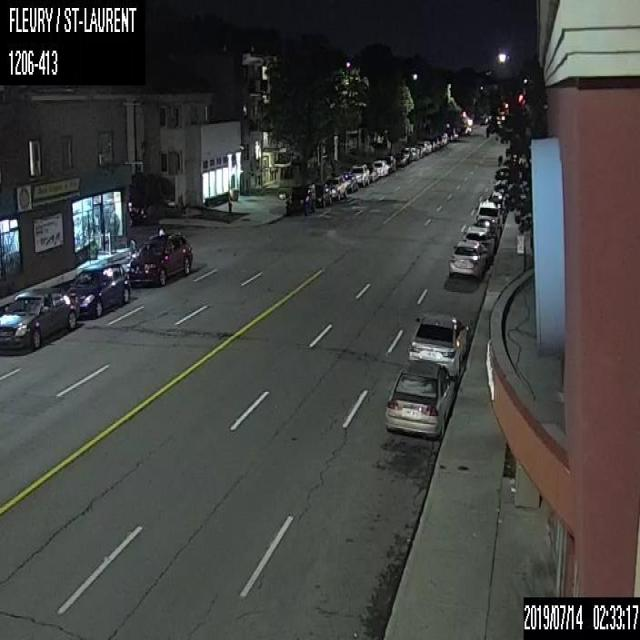vehicle: (382, 360, 454, 437), (0, 286, 77, 352), (407, 311, 469, 376), (63, 265, 130, 318), (125, 234, 192, 286), (448, 239, 488, 281), (463, 224, 494, 257), (284, 182, 314, 215), (473, 202, 502, 224), (325, 176, 346, 200), (125, 202, 146, 226), (348, 163, 368, 185), (313, 182, 331, 206), (371, 159, 388, 176), (382, 154, 396, 172), (400, 146, 411, 162), (395, 152, 407, 166), (409, 146, 418, 160), (416, 141, 425, 155), (414, 144, 422, 156)
